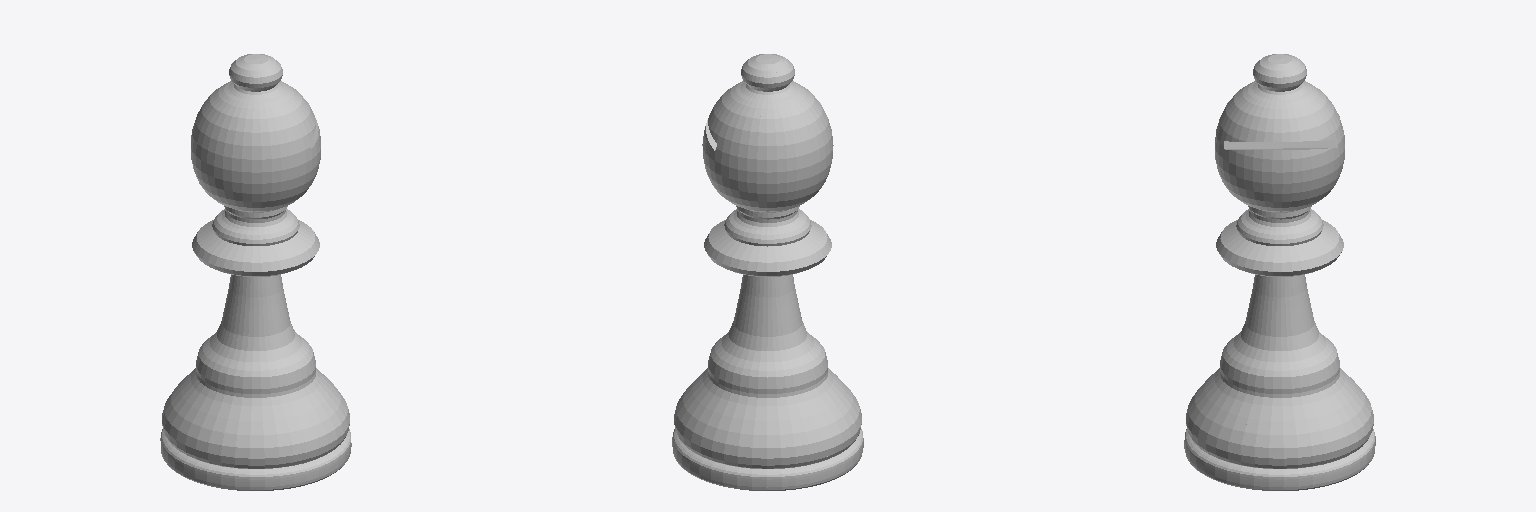
The model's file is bishop_w_2.obj.
3 views of the same model, side by side, from view 1: azimuth 30°, elevation 25°; view 2: azimuth 150°, elevation 25°; view 3: azimuth 270°, elevation 25° (orthographic).
Visible parts, largest first — view 1: bishop_w_2; view 2: bishop_w_2; view 3: bishop_w_2.
Boxes of the visible parts, x1=… form: bishop_w_2: x1=160, y1=54, x2=351, y2=490; bishop_w_2: x1=672, y1=54, x2=863, y2=490; bishop_w_2: x1=1184, y1=54, x2=1375, y2=490.
Bounding box in the file's own units: 3.14 × 7.15 × 3.14.